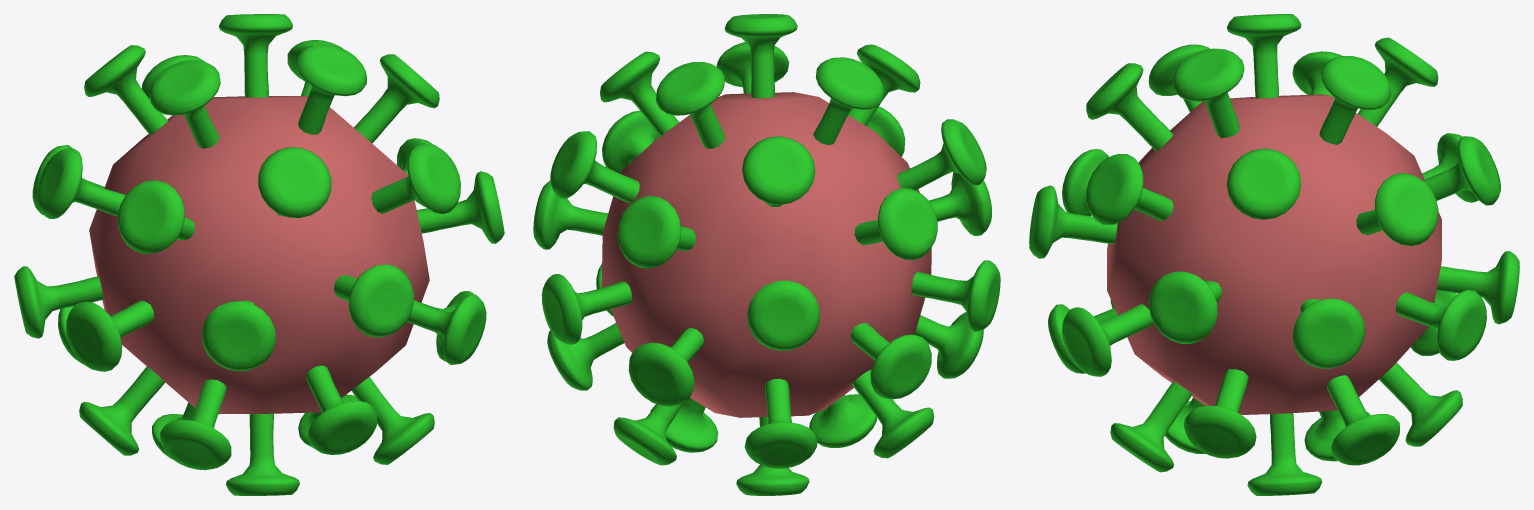
File: combinedModelVirus.fbx
3 views of the same model, side by side, from view 1: azimuth 30°, elevation 25°; view 2: azimuth 150°, elevation 25°; view 3: azimuth 270°, elevation 25° (orthographic). The views are drawn at different scales.
Parts seen in each view (by area): view 1: MASH1_ReproMesh1; view 2: MASH1_ReproMesh1; view 3: MASH1_ReproMesh1.
Boxes of the visible parts, bbox=[...] form: MASH1_ReproMesh1: bbox=[14, 14, 504, 495]; MASH1_ReproMesh1: bbox=[533, 14, 1000, 495]; MASH1_ReproMesh1: bbox=[1029, 14, 1519, 495].
Size of the model in its own units: 19.73 by 19.7 by 20.2.
